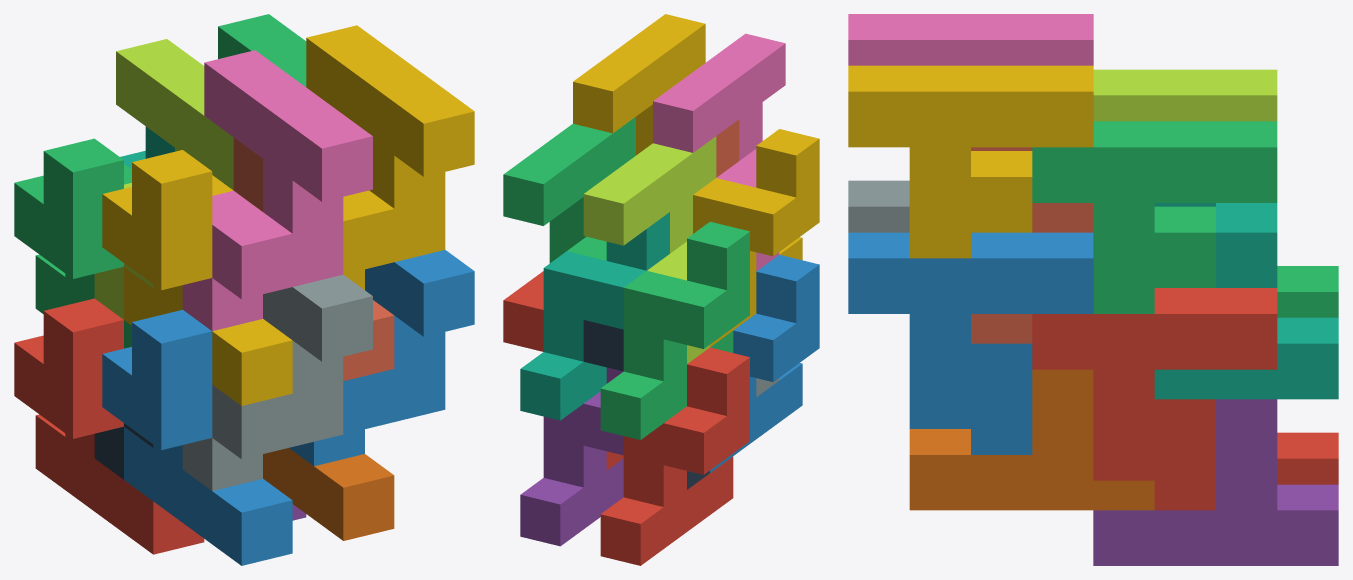
The model's file is tiling.obj.
The picture shows the model from 3 angles, left to right: view 1: azimuth 30°, elevation 25°; view 2: azimuth 150°, elevation 25°; view 3: azimuth 270°, elevation 25°; orthographic projection. The views are drawn at different scales.
Parts seen in each view (by area): view 1: copy_2_domain_4, copy_2_domain_8, copy_1_domain_2, copy_1_domain_4, copy_1_domain_1, copy_2_domain_2, copy_2_domain_6, copy_1_domain_3, copy_2_domain_3, copy_1_domain_6, copy_1_domain_8, copy_2_domain_7 (+2 smaller); view 2: copy_1_domain_1, copy_1_domain_3, copy_1_domain_7, copy_2_domain_4, copy_1_domain_4, copy_1_domain_2, copy_2_domain_3, copy_2_domain_7, copy_1_domain_5, copy_2_domain_8, copy_2_domain_5, copy_2_domain_1 (+1 smaller); view 3: copy_2_domain_6, copy_2_domain_8, copy_2_domain_5, copy_2_domain_7, copy_1_domain_5, copy_1_domain_6, copy_1_domain_7, copy_2_domain_4, copy_2_domain_3, copy_1_domain_8, copy_1_domain_1, copy_2_domain_2 (+1 smaller).
Part boxes in pixels (<box>): copy_2_domain_4: <box>182,50,372,331</box>; copy_2_domain_8: <box>306,25,474,289</box>; copy_1_domain_2: <box>102,309,292,565</box>; copy_1_domain_4: <box>102,150,292,405</box>; copy_1_domain_1: <box>14,298,204,554</box>; copy_2_domain_2: <box>182,274,372,490</box>; copy_2_domain_6: <box>289,250,474,466</box>; copy_1_domain_3: <box>14,138,131,348</box>; copy_2_domain_3: <box>94,39,233,319</box>; copy_1_domain_6: <box>263,448,394,540</box>; copy_1_domain_8: <box>233,137,394,380</box>; copy_2_domain_7: <box>218,14,306,86</box>; copy_1_domain_1: <box>600,347,749,565</box>; copy_1_domain_3: <box>600,221,749,439</box>; copy_1_domain_7: <box>520,212,669,420</box>; copy_2_domain_4: <box>653,33,785,271</box>; copy_1_domain_4: <box>693,129,819,346</box>; copy_1_domain_2: <box>710,254,819,472</box>; copy_2_domain_3: <box>583,136,716,363</box>; copy_2_domain_7: <box>503,117,635,263</box>; copy_1_domain_5: <box>520,367,623,546</box>; copy_2_domain_8: <box>573,14,705,155</box>; copy_2_domain_5: <box>503,271,623,470</box>; copy_2_domain_1: <box>583,320,709,489</box>; copy_2_domain_6: <box>848,232,1093,454</box>; copy_2_domain_8: <box>848,65,1093,258</box>; copy_2_domain_5: <box>1032,288,1277,510</box>; copy_2_domain_7: <box>1032,121,1277,313</box>; copy_1_domain_5: <box>1093,399,1338,565</box>; copy_1_domain_6: <box>909,369,1154,510</box>; copy_1_domain_7: <box>1154,203,1338,399</box>; copy_2_domain_4: <box>848,14,1093,65</box>; copy_2_domain_3: <box>1093,69,1277,121</box>; copy_1_domain_8: <box>971,147,1093,343</box>; copy_1_domain_1: <box>1277,432,1338,484</box>; copy_2_domain_2: <box>848,180,909,232</box>.
Size of the model in its own units: 5 by 9 by 8.
